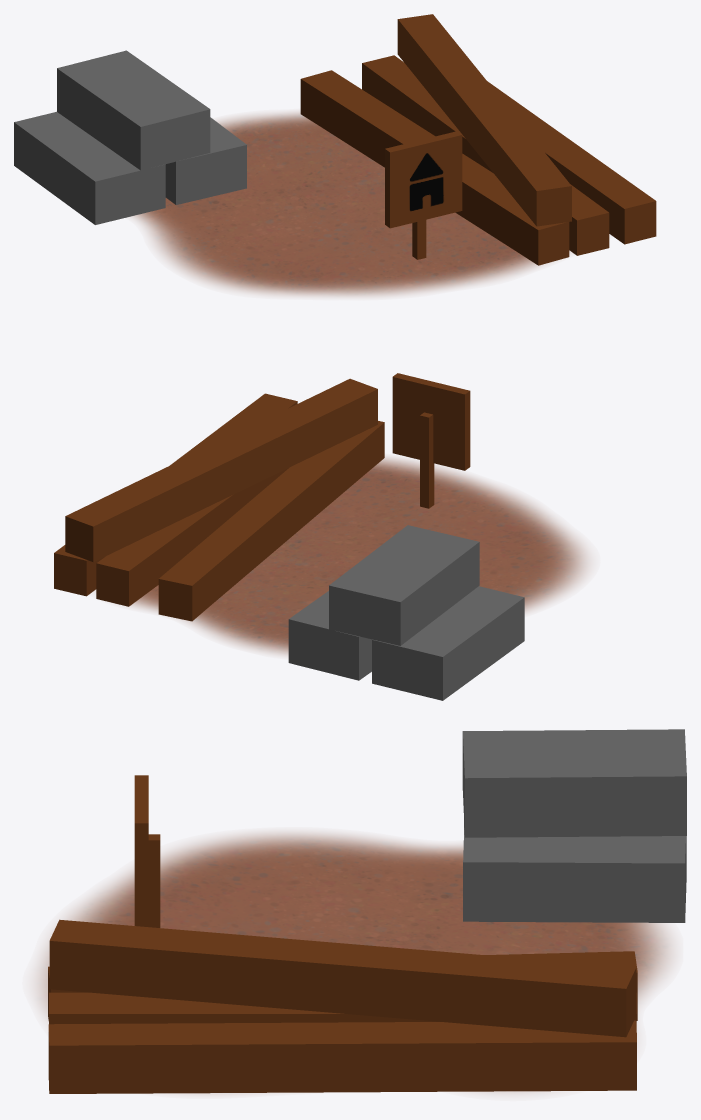
The model's file is plot.glb.
3 renders of one model, top to bottom at view 1: azimuth 30°, elevation 25°; view 2: azimuth 150°, elevation 25°; view 3: azimuth 270°, elevation 25°, orthographic. The views are drawn at different scales.
Parts seen in each view (by area): view 1: Plane, Cube.005, Cube.002, Cube.004, Cube.018, Cube.014, Cube.006, Cube.003, Cube.001, Cube.012; view 2: Plane, Cube.005, Cube.004, Cube.002, Cube.018, Cube.003, Cube.006, Cube.001, Cube.014, Cube.012; view 3: Plane, Cube.005, Cube.014, Cube.002, Cube.001, Cube.003, Cube.006, Cube.004, Cube.012.
Part boxes in pixels (box(x1,y1,x2,y2)): Plane: box(132, 112, 570, 296); Cube.005: box(397, 14, 571, 226); Cube.002: box(57, 50, 210, 170); Cube.004: box(300, 70, 569, 265); Cube.018: box(14, 111, 165, 224); Cube.014: box(487, 81, 656, 244); Cube.006: box(385, 131, 462, 228); Cube.003: box(362, 55, 609, 255); Cube.001: box(165, 117, 246, 204); Cube.012: box(412, 220, 426, 259); Plane: box(131, 457, 588, 655); Cube.005: box(65, 378, 377, 562); Cube.004: box(158, 421, 384, 621); Cube.002: box(329, 525, 479, 645); Cube.018: box(372, 586, 524, 700); Cube.003: box(96, 468, 288, 606); Cube.006: box(392, 373, 470, 470); Cube.001: box(288, 591, 371, 680); Cube.014: box(54, 393, 297, 596); Cube.012: box(420, 412, 434, 508); Plane: box(36, 832, 671, 1093); Cube.005: box(49, 919, 636, 1037); Cube.014: box(48, 1020, 636, 1093); Cube.002: box(462, 729, 686, 837); Cube.001: box(463, 828, 686, 922); Cube.003: box(49, 992, 636, 1024); Cube.006: box(134, 775, 148, 926); Cube.004: box(48, 951, 637, 1020); Cube.012: box(148, 834, 160, 927).
Bounding box in the file's own units: 13.63 × 3.82 × 13.6.
4 materials, 2 textured.
